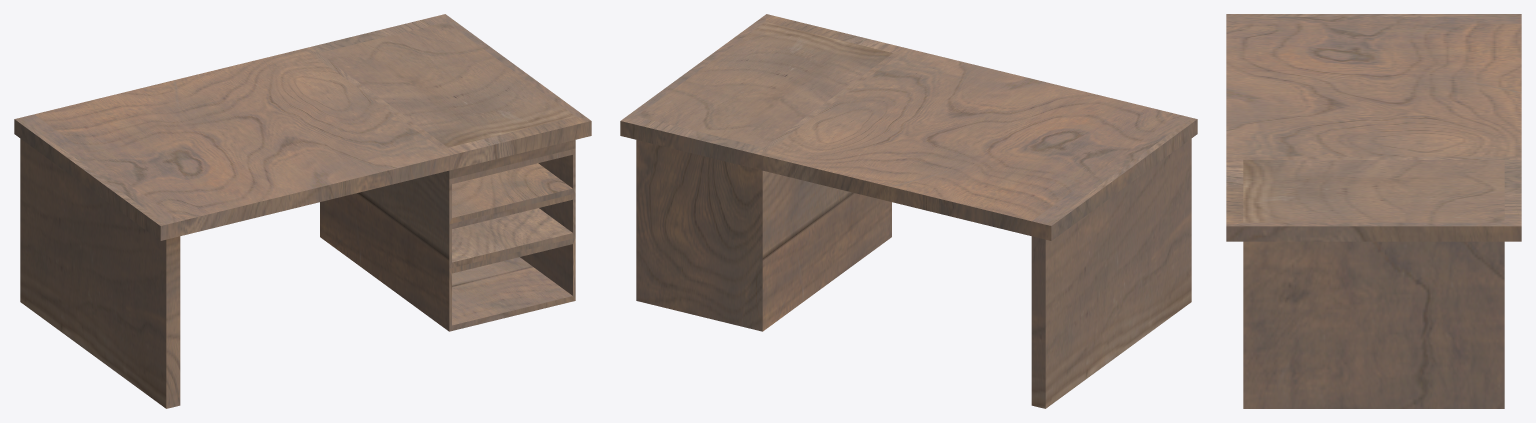
The model's file is desk.FBX.
The picture shows the model from 3 angles, left to right: view 1: azimuth 30°, elevation 25°; view 2: azimuth 150°, elevation 25°; view 3: azimuth 270°, elevation 25°; orthographic projection.
Parts seen in each view (by area): view 1: Box001; view 2: Box001; view 3: Box001.
Part boxes in pixels (x1,y1,x2,y2): Box001: [14, 14, 591, 408]; Box001: [620, 14, 1197, 408]; Box001: [1226, 14, 1521, 408].
Size of the model in its own units: 279 by 114 by 164.
1 material, 1 textured.
